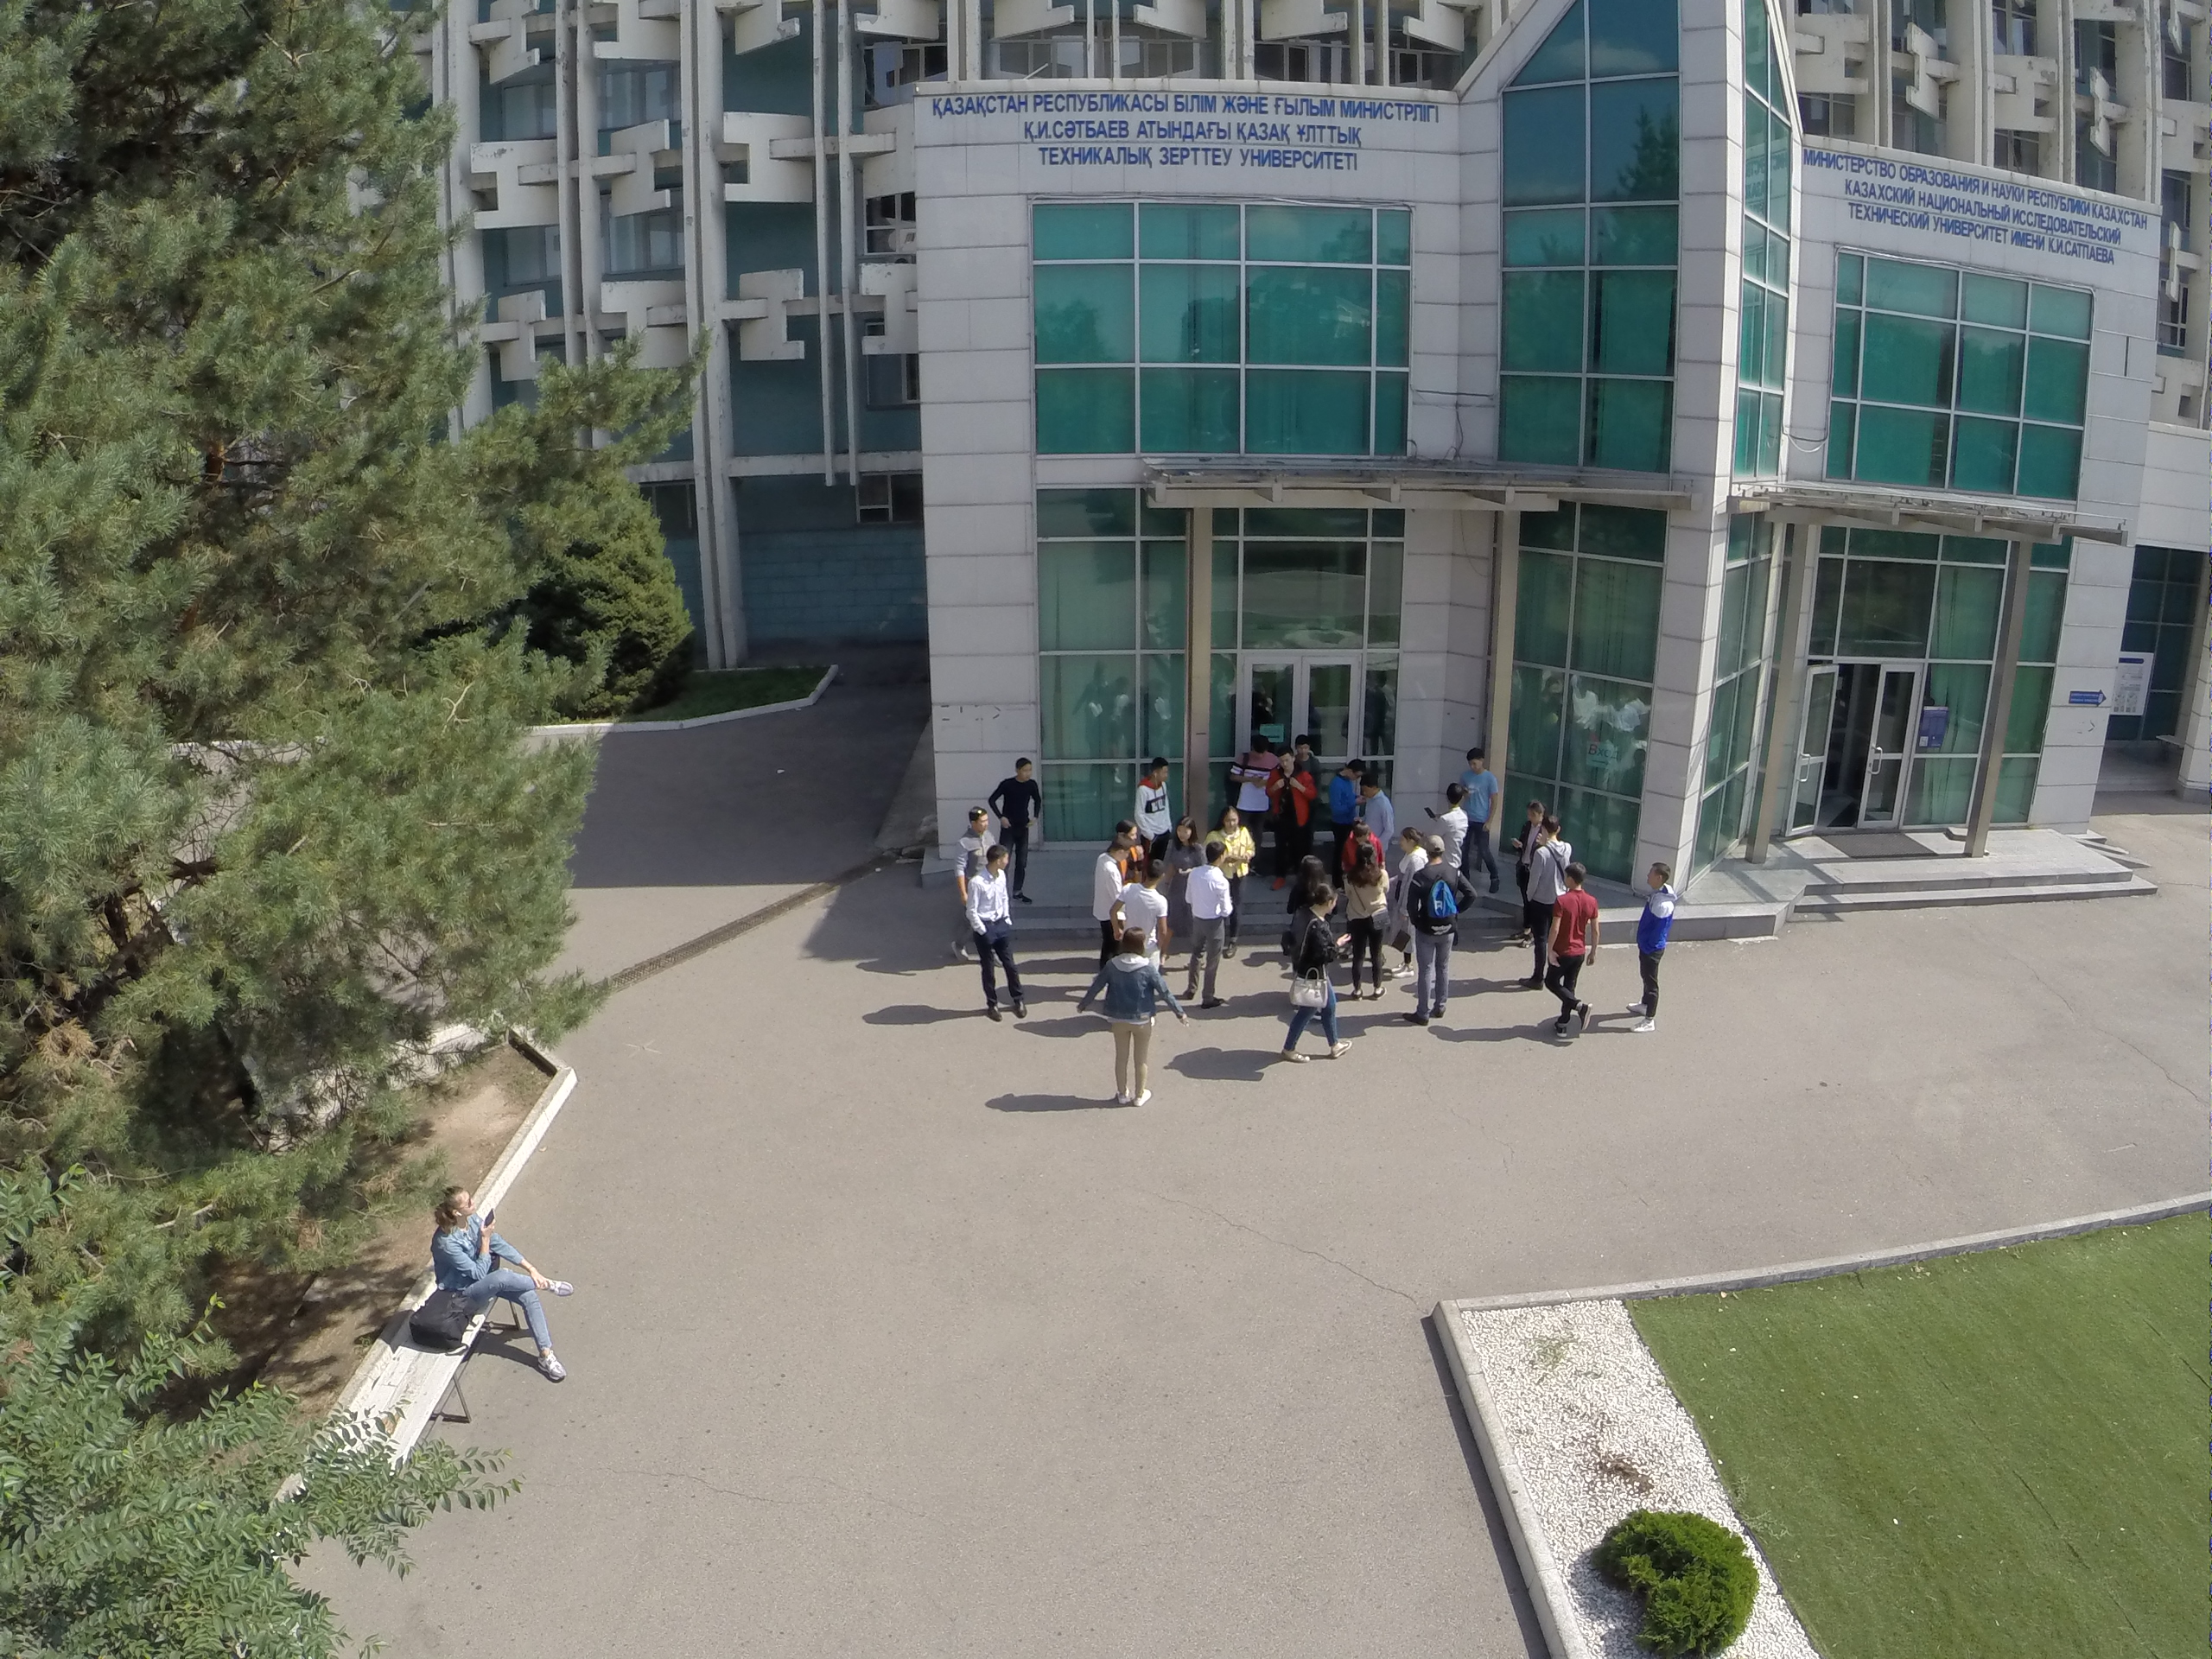person: (417, 1170, 585, 1390), (1088, 918, 1185, 1113), (1281, 880, 1352, 1068), (1411, 835, 1476, 1033), (1618, 854, 1682, 1038), (968, 836, 1025, 1039), (1543, 859, 1604, 1042), (1339, 836, 1404, 1004), (1524, 813, 1580, 996), (990, 749, 1050, 910), (1455, 747, 1514, 902), (1185, 839, 1231, 1027), (1345, 838, 1391, 1006), (1388, 824, 1434, 989), (1208, 801, 1257, 957), (1268, 747, 1318, 881), (1128, 754, 1176, 859), (1427, 783, 1473, 877), (1231, 734, 1268, 843), (1508, 791, 1544, 884), (1361, 778, 1402, 840), (954, 810, 996, 870), (1171, 818, 1202, 894), (1327, 753, 1354, 842), (1291, 736, 1317, 773)
